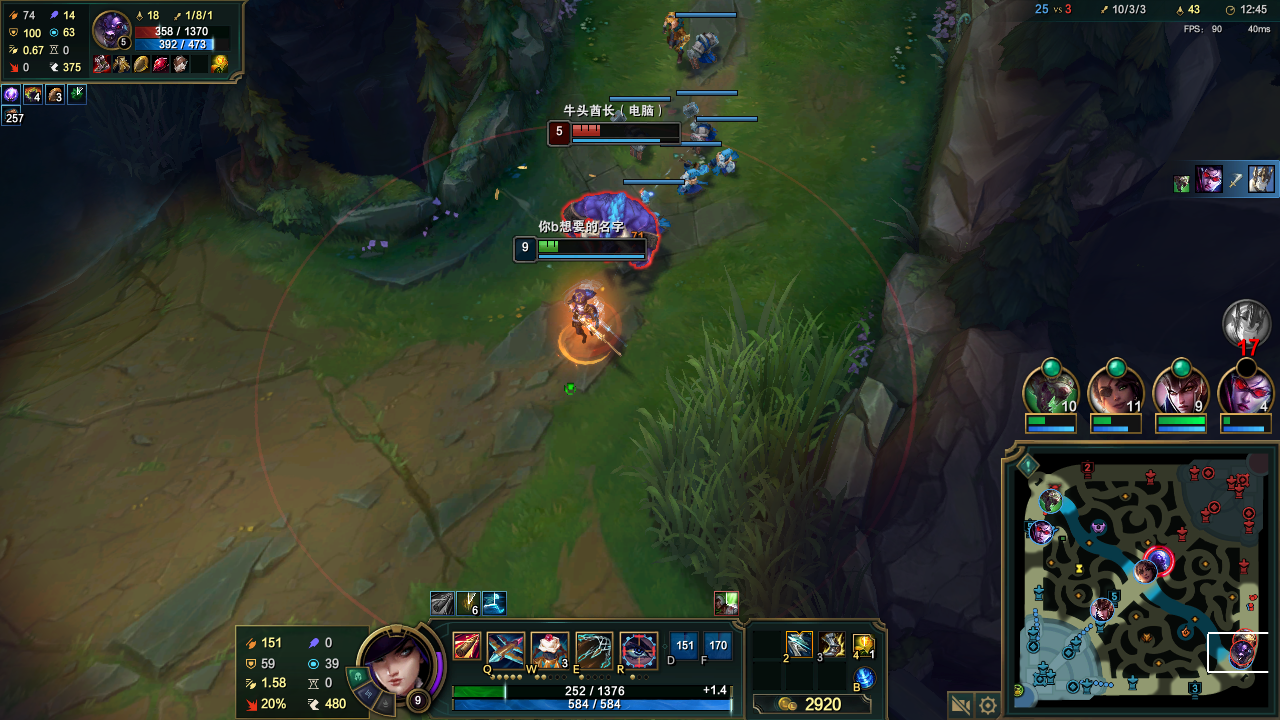DFYX: (571, 125, 664, 138)
WFXB: (684, 29, 726, 69), (714, 152, 747, 180), (678, 163, 702, 190), (694, 118, 715, 148), (646, 207, 670, 229), (628, 147, 648, 158)
